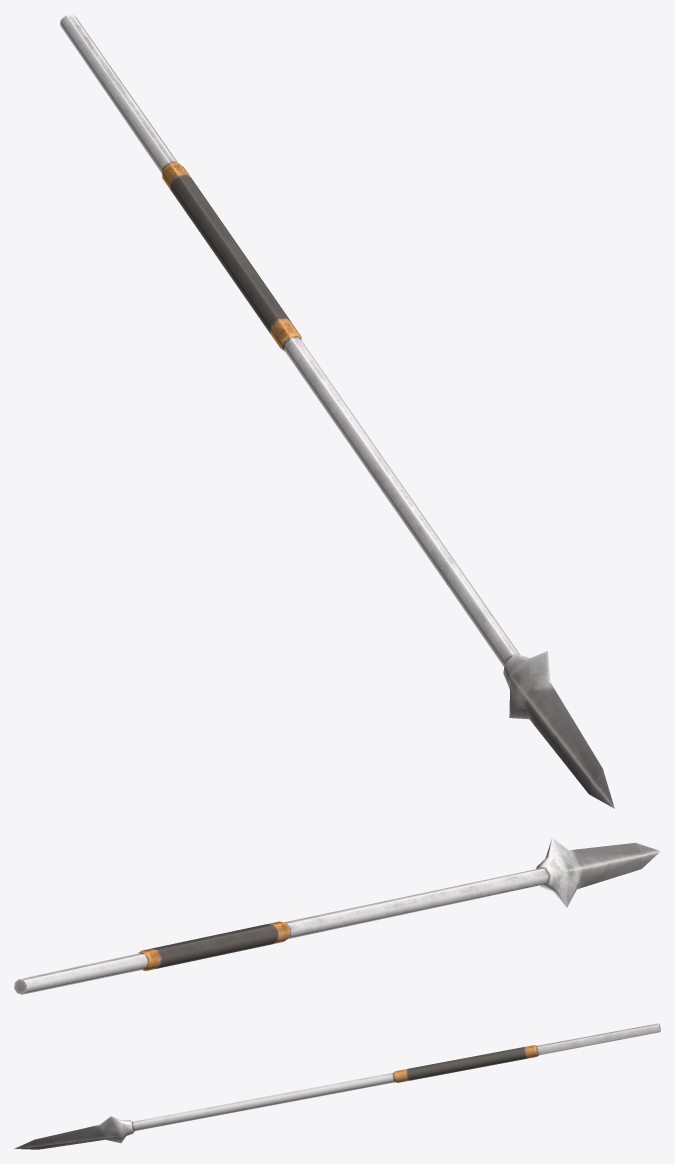
File: rider-weapon-slice-base.glb
3 renders of one model, top to bottom at view 1: azimuth 30°, elevation 25°; view 2: azimuth 150°, elevation 25°; view 3: azimuth 270°, elevation 25°, orthographic. The views are drawn at different scales.
Bounding box in the file's own units: 0.2873 × 0.7621 × 2.97.
Materials: 1 (1 with a texture image).
